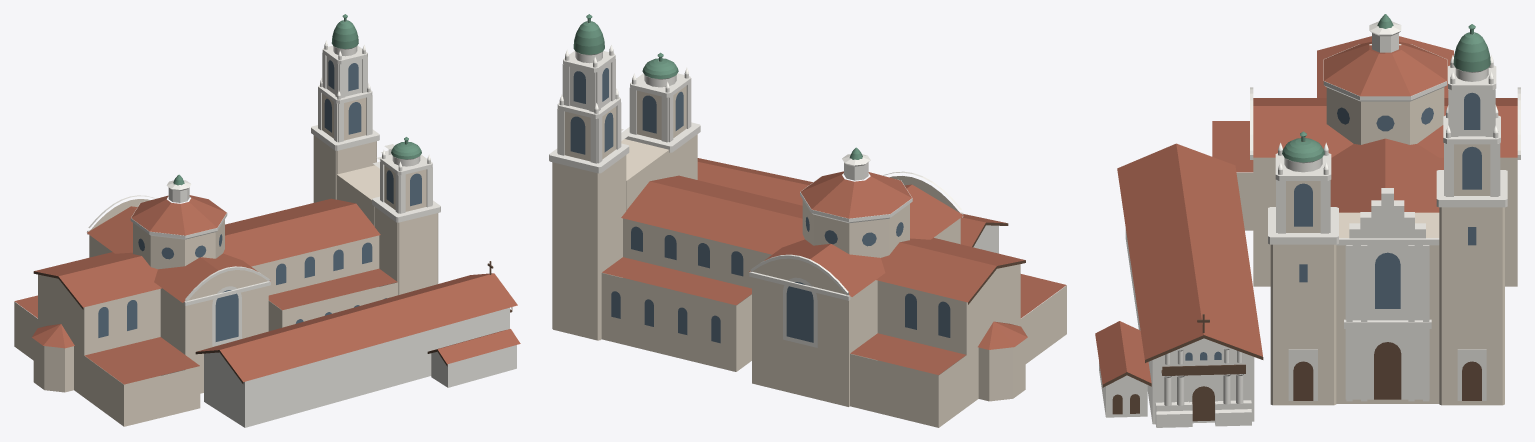
The model's file is sf-mission-dolores.glb.
The picture shows the model from 3 angles, left to right: view 1: azimuth 30°, elevation 25°; view 2: azimuth 150°, elevation 25°; view 3: azimuth 270°, elevation 25°; orthographic projection. The views are drawn at different scales.
Parts seen in each view (by area): view 1: Mission Dolores; view 2: Mission Dolores; view 3: Mission Dolores.
Boxes of the visible parts, left/top/right/bottom form: Mission Dolores: left=14, top=14, right=520, bottom=427; Mission Dolores: left=549, top=14, right=1066, bottom=427; Mission Dolores: left=1095, top=14, right=1520, bottom=427.
Bounding box in the file's own units: 68.72 × 44.5 × 46.7.
